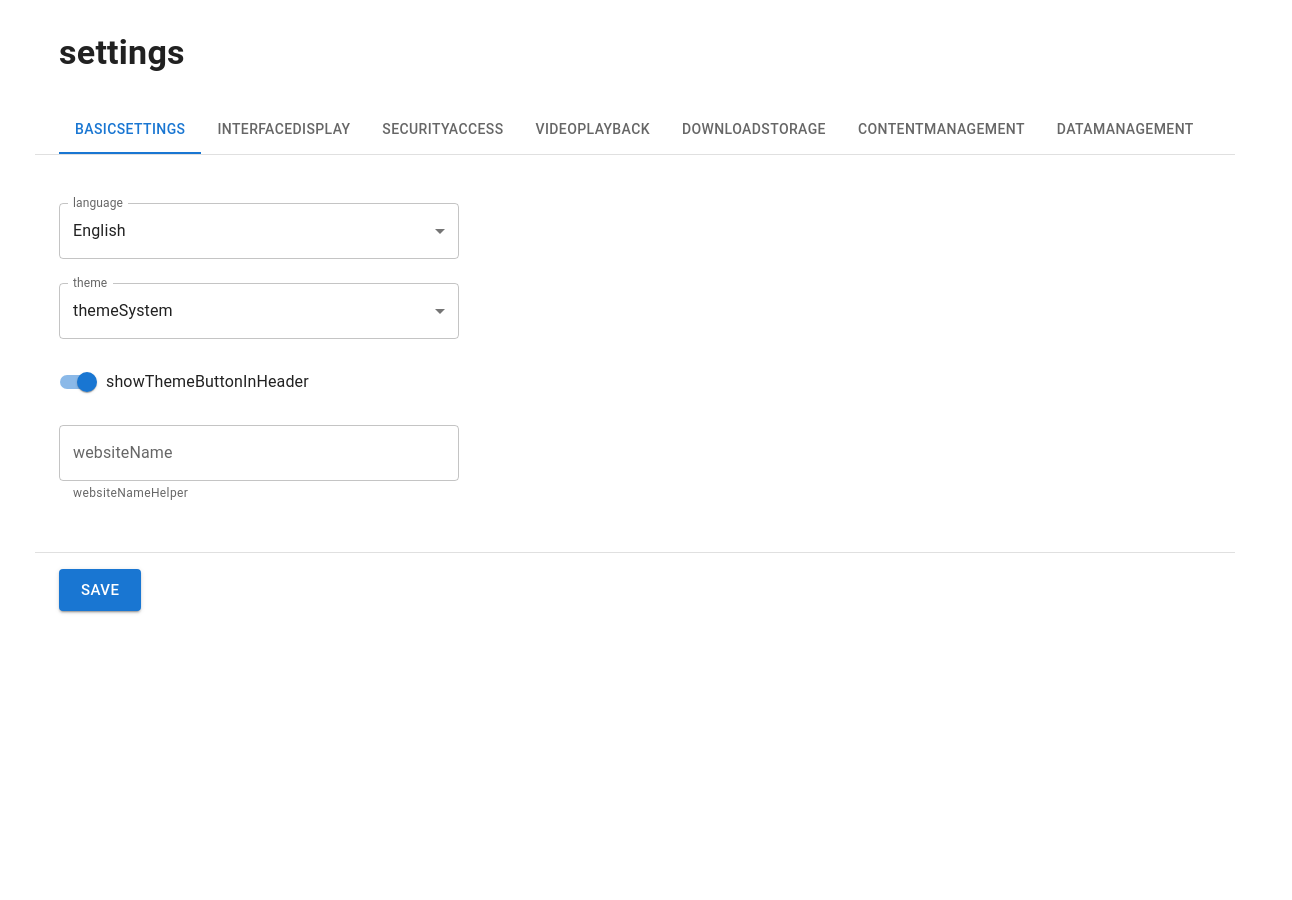
SettingsPage › does not render raw TMDB server error text for unknown errors
What coordinates should you click on to do the following:
click the tab "contentManagement"
I would click on:
 (941, 130)
Its box is 842,106 -> 1041,154.
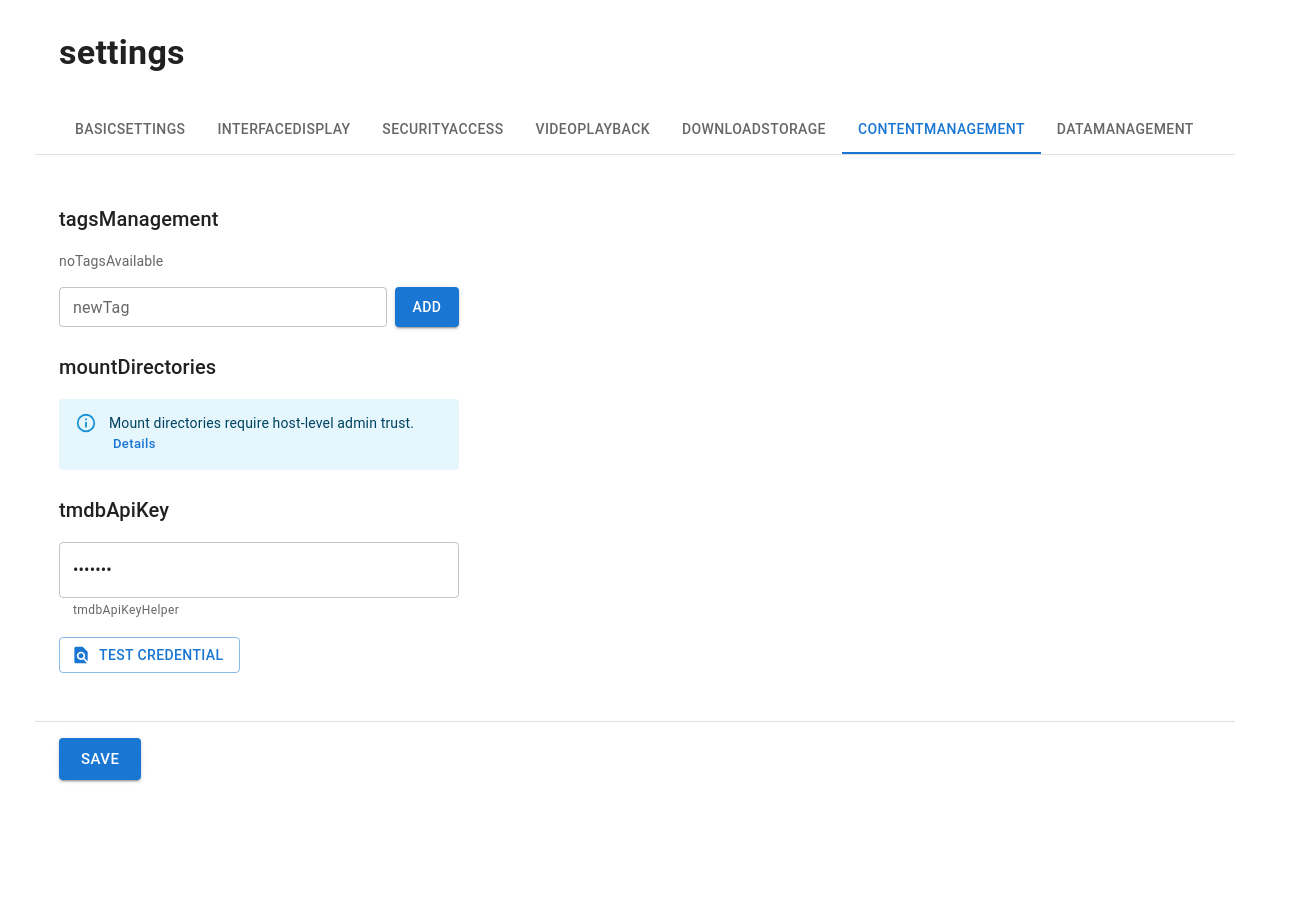
What coordinates should you click on to do the following:
click the button "Test Credential"
I would click on:
 (149, 655)
Its box is 59,637 -> 240,673.
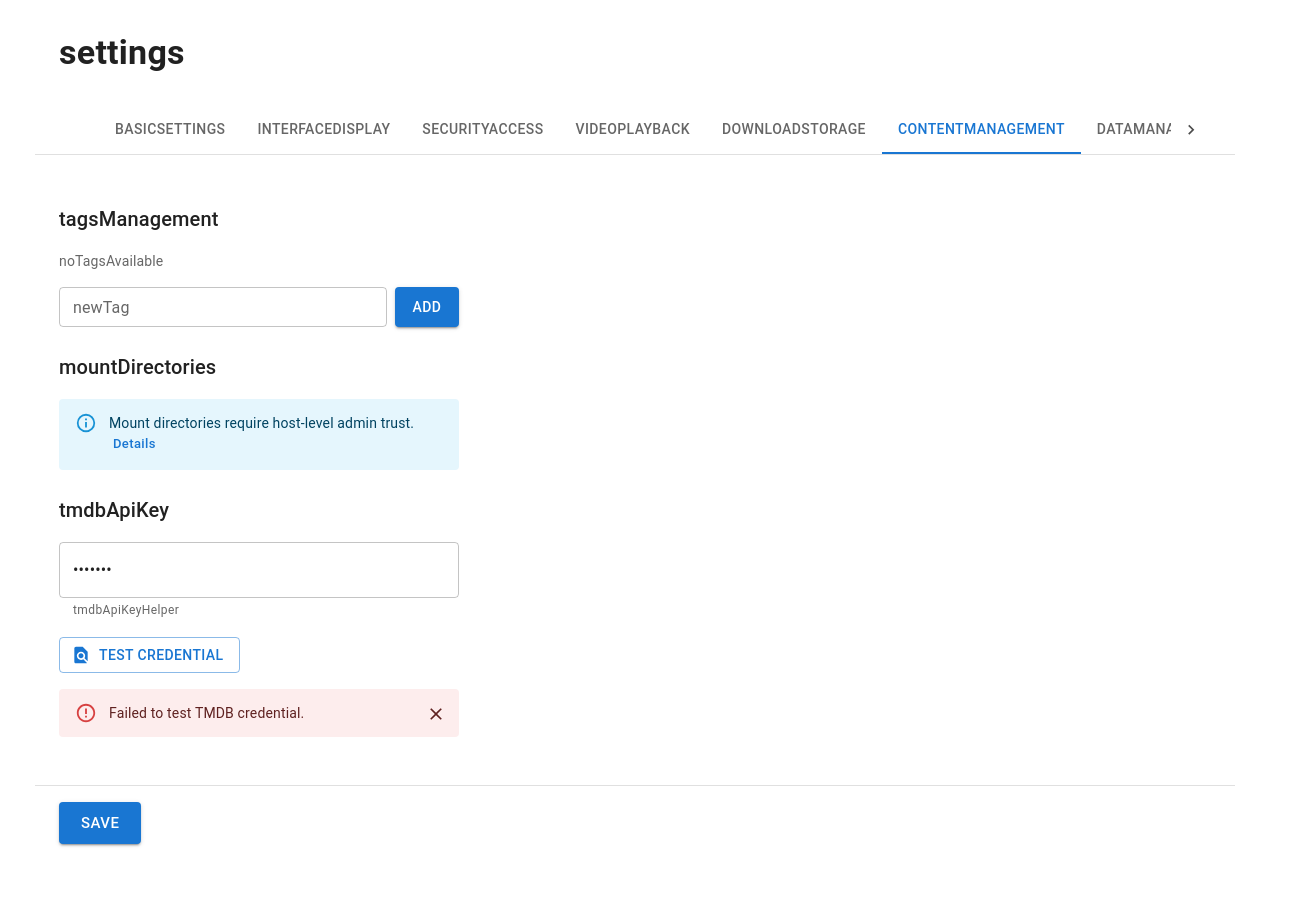
expect the text "Failed to test TMDB credential." is shown: met, box 109,705 -> 304,721
